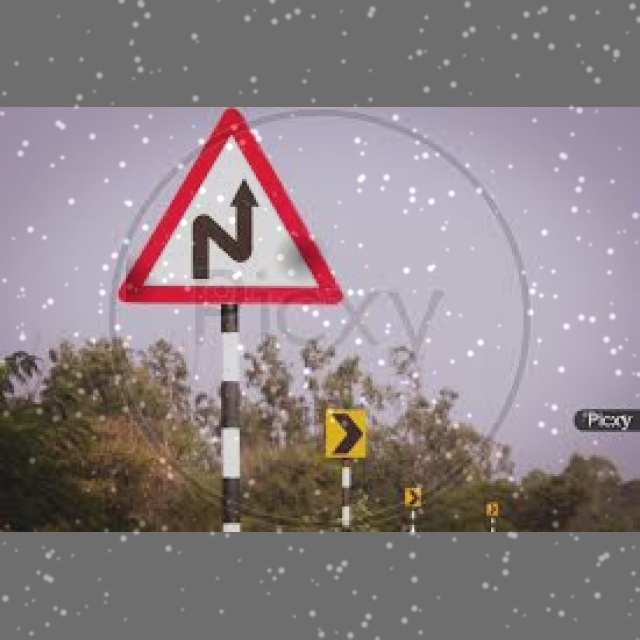Right_Reverse_Bend: (126, 107, 339, 302)
